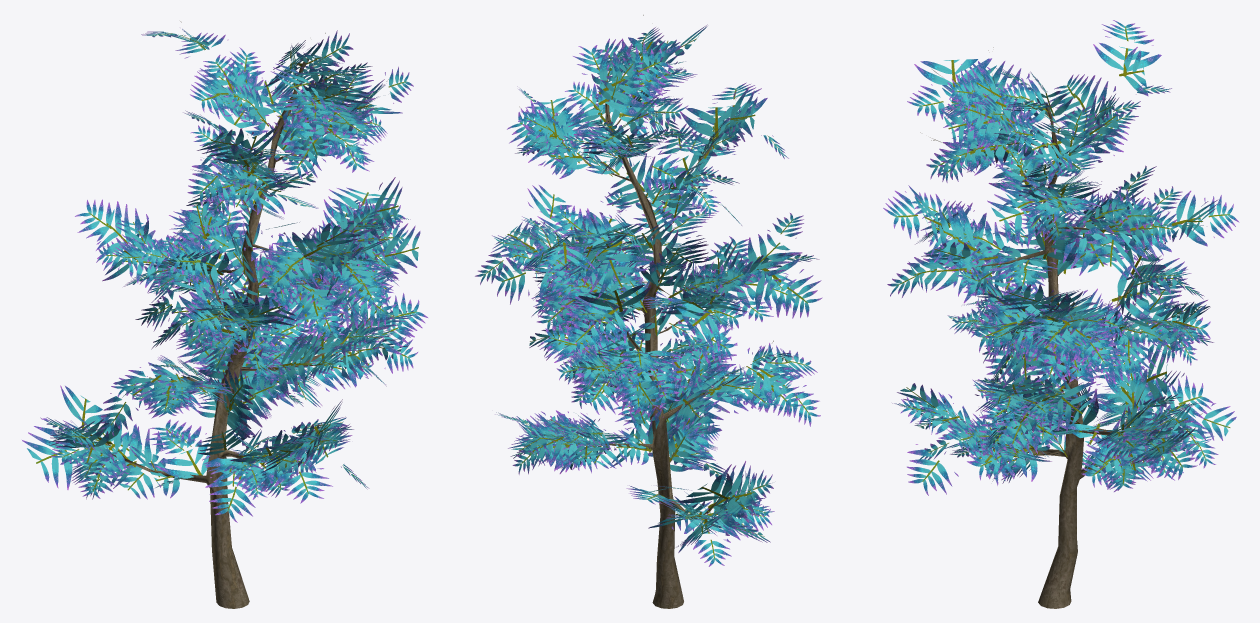
The picture shows the model from 3 angles, left to right: view 1: azimuth 30°, elevation 25°; view 2: azimuth 150°, elevation 25°; view 3: azimuth 270°, elevation 25°; orthographic projection. The views are drawn at different scales.
Parts seen in each view (by area): view 1: m1, m0; view 2: m1, m0; view 3: m1, m0.
Boxes of the visible parts, x1,y1,x2,y2 form: m1: [22, 29, 427, 522]; m0: [75, 21, 388, 608]; m1: [475, 24, 822, 566]; m0: [519, 15, 773, 608]; m1: [883, 20, 1239, 495]; m0: [920, 38, 1202, 608].
Size of the model in its own units: 7.06 by 11 by 6.45.
2 materials, 2 textured.
